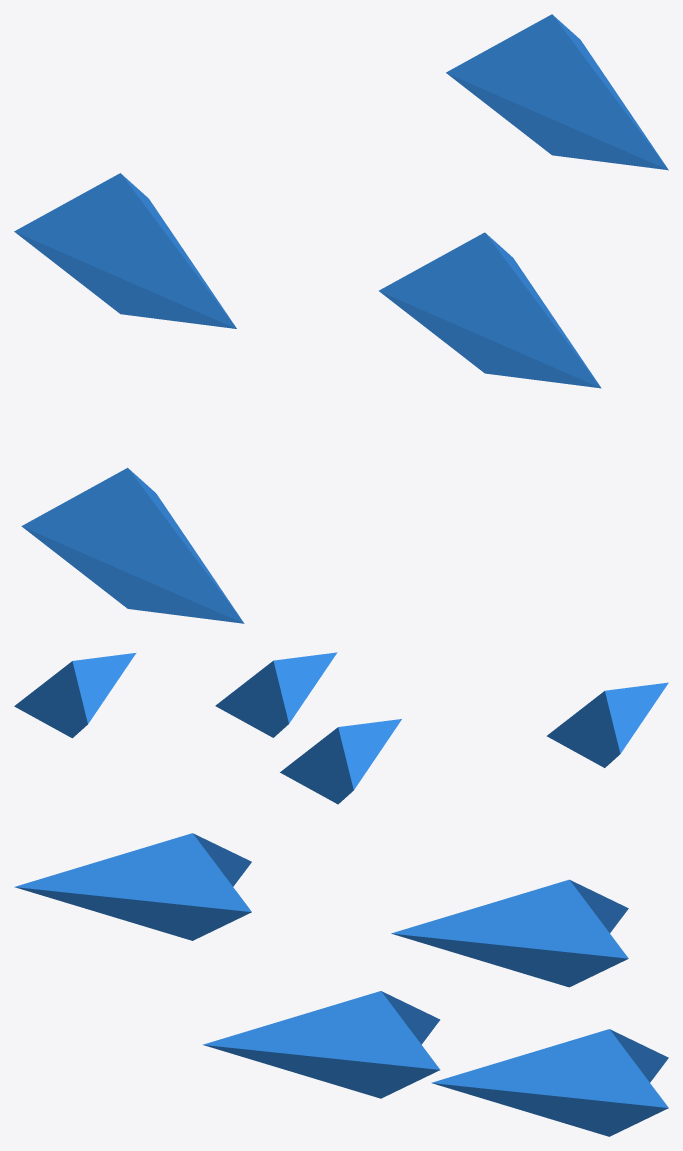
Rendered from MithrilArrowheadStack4.glb.
The picture shows the model from 3 angles, top to bottom: view 1: azimuth 30°, elevation 25°; view 2: azimuth 150°, elevation 25°; view 3: azimuth 270°, elevation 25°; orthographic projection. The views are drawn at different scales.
Visible parts, largest first — view 1: MithrilArrowheadStack4; view 2: MithrilArrowheadStack4; view 3: MithrilArrowheadStack4.
Part boxes in pixels (x1=…): MithrilArrowheadStack4: x1=14, y1=14, x2=668, y2=623; MithrilArrowheadStack4: x1=14, y1=652, x2=668, y2=804; MithrilArrowheadStack4: x1=14, y1=833, x2=668, y2=1136.
Size of the model in its own units: 0.3118 by 0.0806 by 0.2782.
